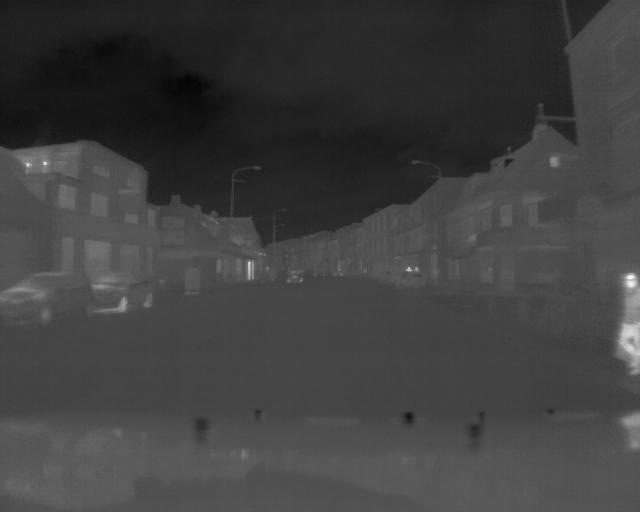car: (3, 263, 94, 334), (92, 261, 158, 317), (281, 265, 304, 287)
person: (616, 267, 640, 372)
